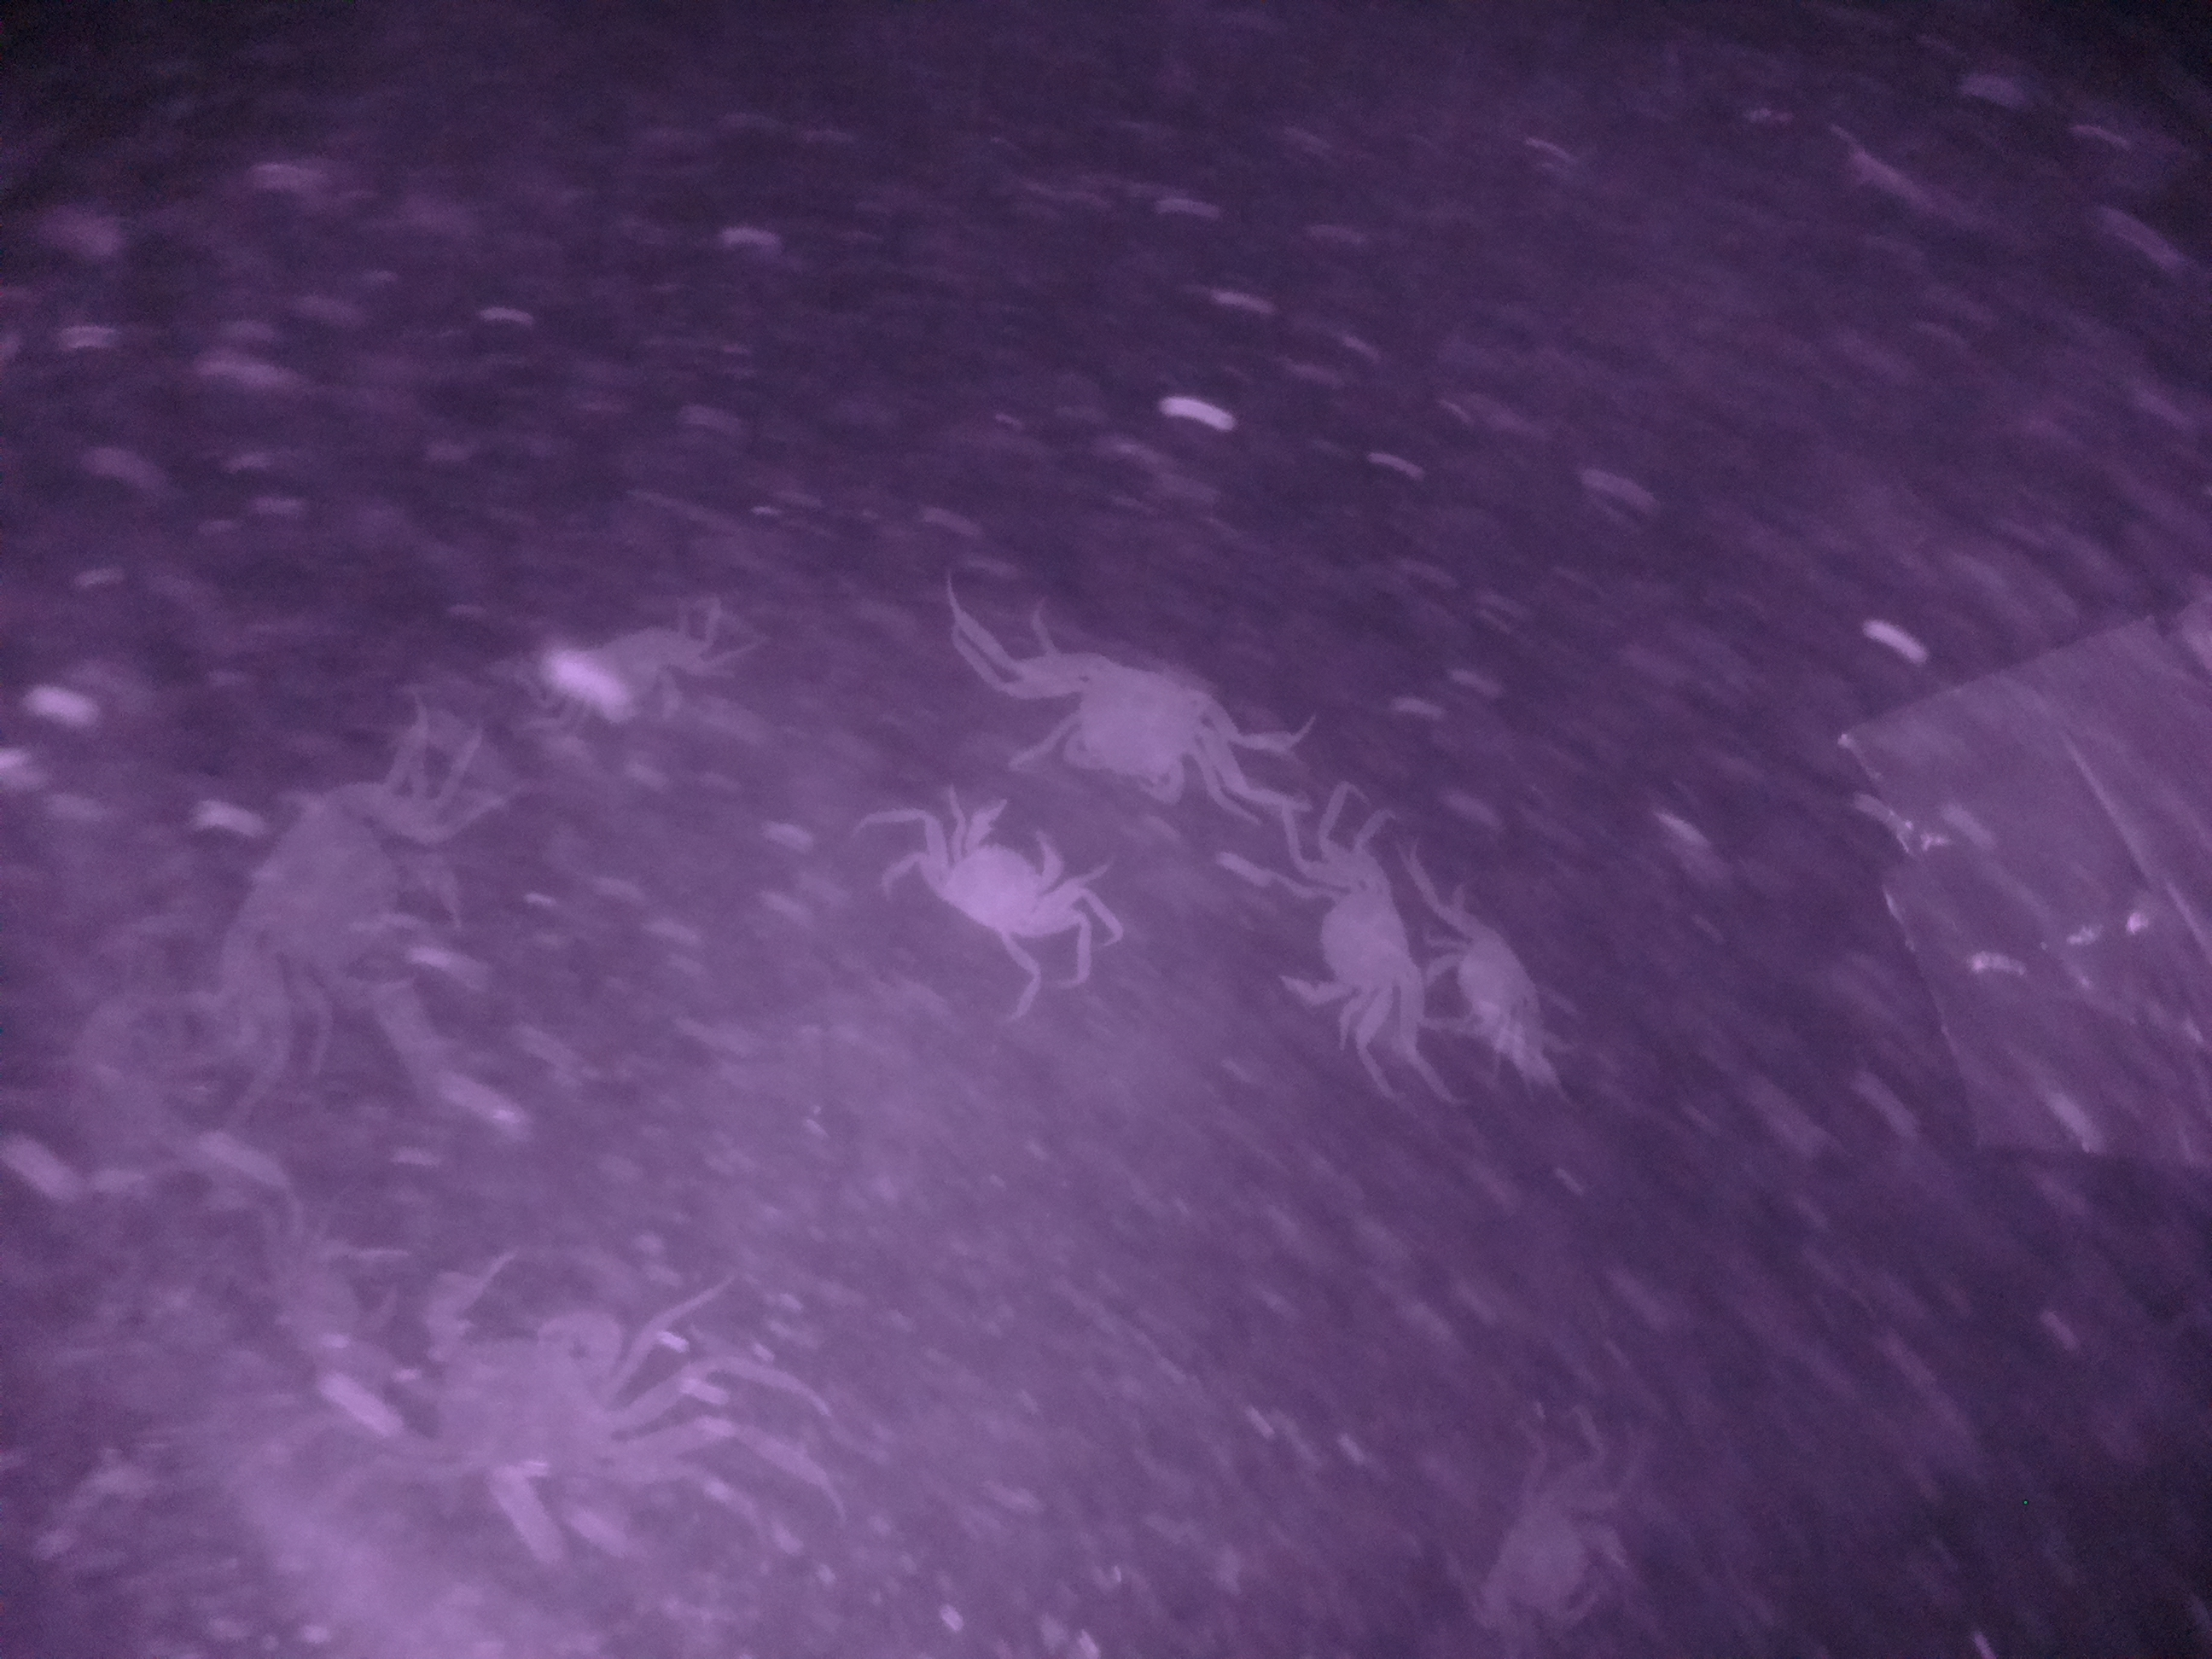Crab: (906, 769, 1069, 979), (1040, 626, 1221, 814), (1266, 849, 1426, 1033), (1428, 897, 1552, 1061)
